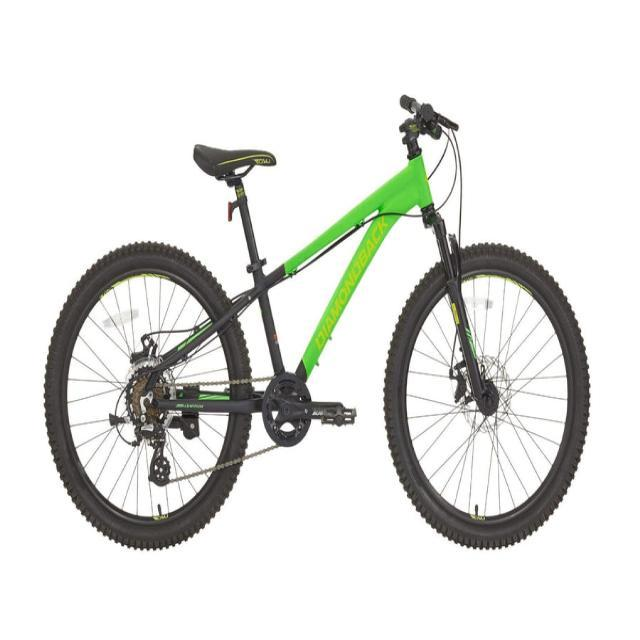bike: (42, 93, 590, 552)
